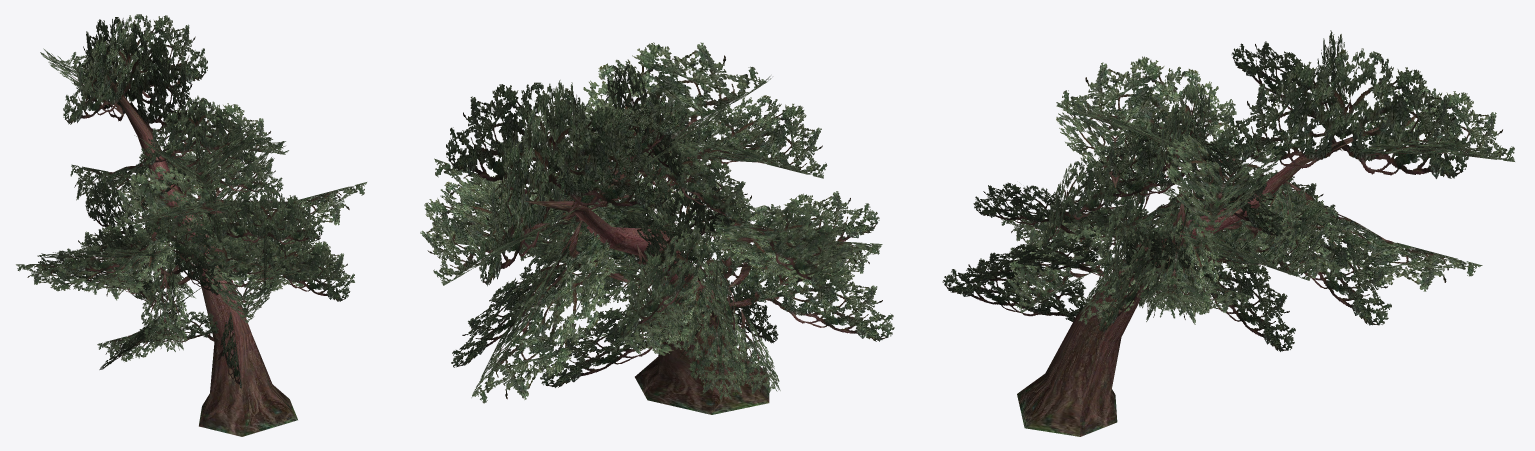
Rendered from tre_pine07_03.glb.
3 views of the same model, side by side, from view 1: azimuth 30°, elevation 25°; view 2: azimuth 150°, elevation 25°; view 3: azimuth 270°, elevation 25° (orthographic). The views are drawn at different scales.
Visible parts, largest first — view 1: tre_pine07_03; view 2: tre_pine07_03; view 3: tre_pine07_03.
Boxes of the visible parts, <box> form: tre_pine07_03: <box>16,14,366,436</box>; tre_pine07_03: <box>420,42,894,414</box>; tre_pine07_03: <box>942,30,1514,436</box>.
Bounding box in the file's own units: 35.68 × 32.4 × 45.98.
Materials: 2 (2 with a texture image).
